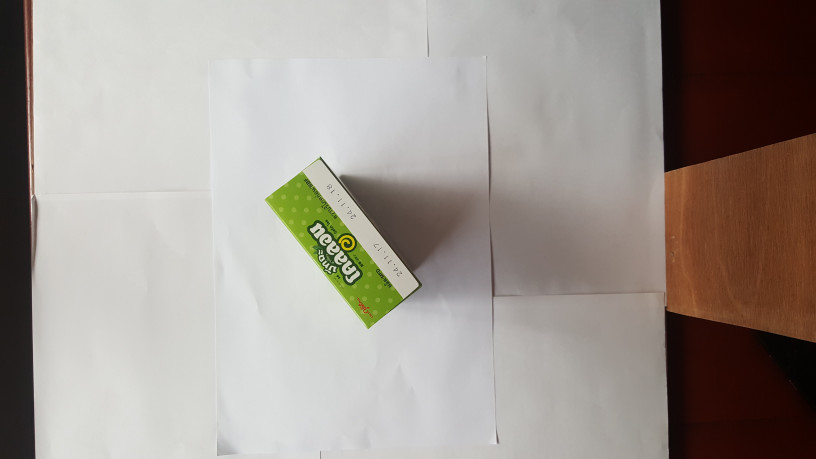collon-matcha: (266, 156, 424, 332)
